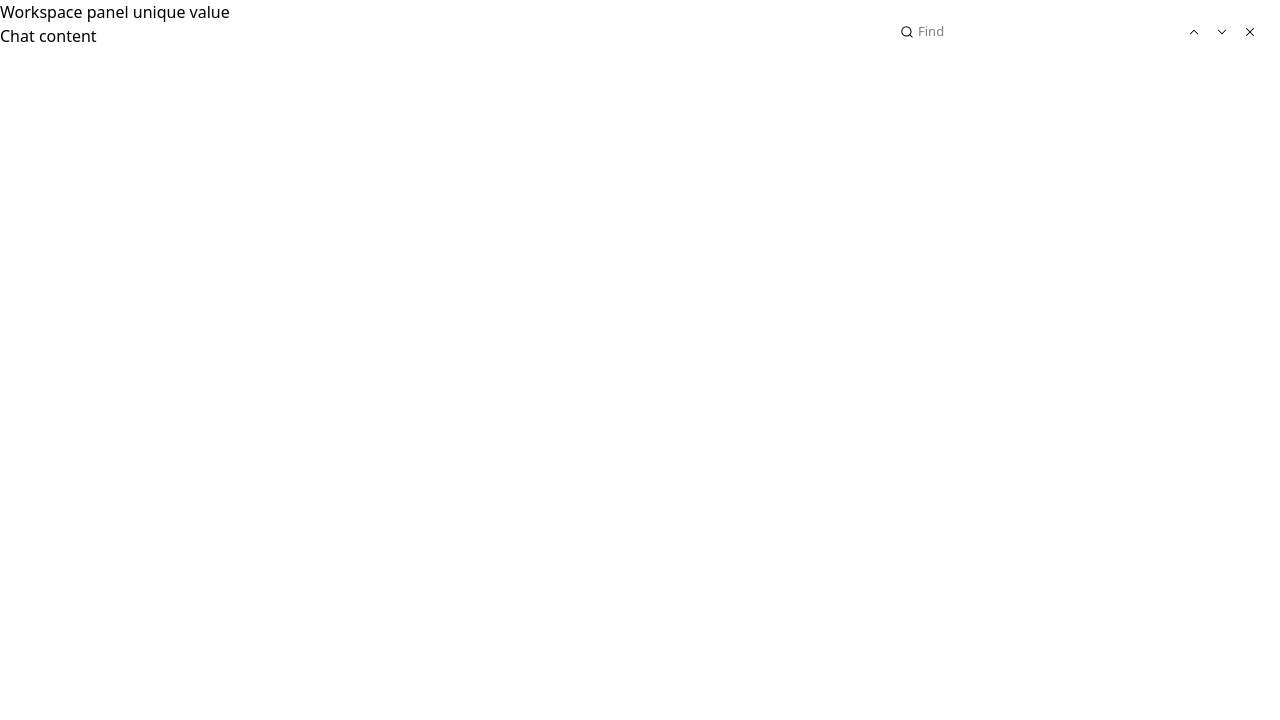
Test: FindInPageModal › prefers visible non-chat content while a conversation controller is mounted
Type "unique value" into the field with placeholder "Find".
click(1022, 32); type("unique value")  # box x1=918 y1=22 x2=1126 y2=42
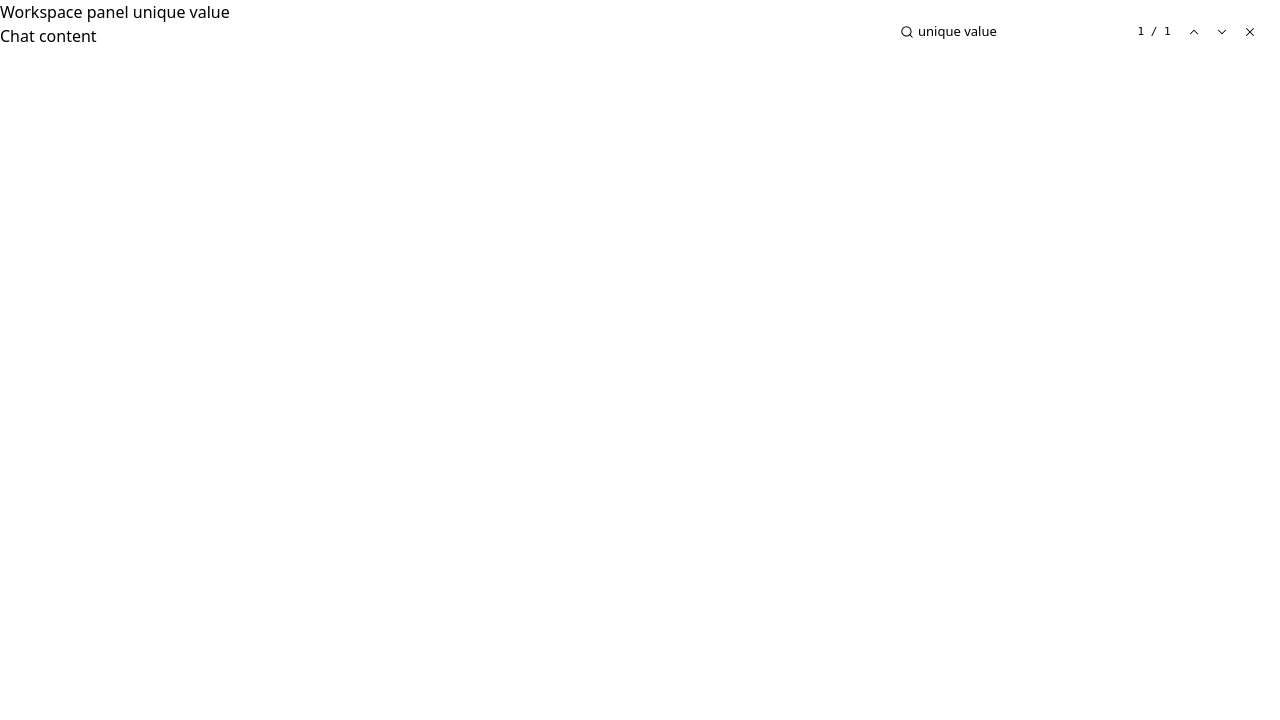
Check: the text "1 / 1" is shown, box x1=1137 y1=25 x2=1170 y2=38
